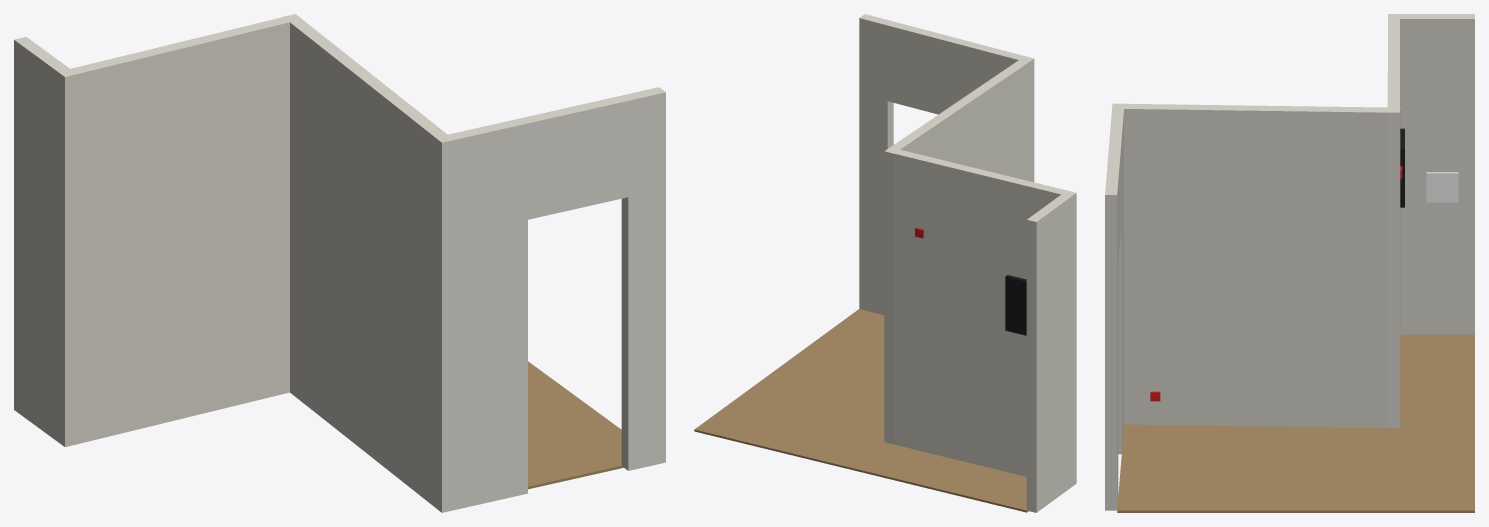
The model's file is koridor_primer_mm.obj.
The picture shows the model from 3 angles, left to right: view 1: azimuth 30°, elevation 25°; view 2: azimuth 150°, elevation 25°; view 3: azimuth 270°, elevation 25°; orthographic projection. The views are drawn at different scales.
Parts seen in each view (by area): view 1: Stena_B, Stena_V, Stena_G, Stena_A, Pol; view 2: Stena_B, Pol, Stena_G, Stena_A, Stena_V, Elektroshit_398x535; view 3: Stena_V, Pol, Stena_A, Stena_G, Stena_B, Shitok_267x267.
Part boxes in pixels (<box>): Stena_B: <box>58,14,302,446</box>; Stena_V: <box>283,14,454,512</box>; Stena_G: <box>435,87,665,512</box>; Stena_A: <box>14,37,77,447</box>; Pol: <box>528,361,623,489</box>; Stena_B: <box>885,147,1076,487</box>; Pol: <box>694,309,1028,512</box>; Stena_G: <box>859,14,1034,315</box>; Stena_A: <box>1026,190,1076,512</box>; Stena_V: <box>884,56,1033,444</box>; Elektroshit_398x535: <box>1005,275,1026,335</box>; Stena_V: <box>1112,103,1400,428</box>; Pol: <box>1117,334,1474,512</box>; Stena_A: <box>1388,14,1474,334</box>; Stena_G: <box>1105,103,1124,510</box>; Stena_B: <box>1387,14,1399,428</box>; Shitok_267x267: <box>1426,172,1458,202</box>.
Bounding box in the file's own units: 3536 × 2893 × 3051.
